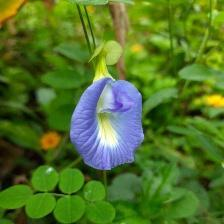shankupushpam: (68, 76, 149, 175)
